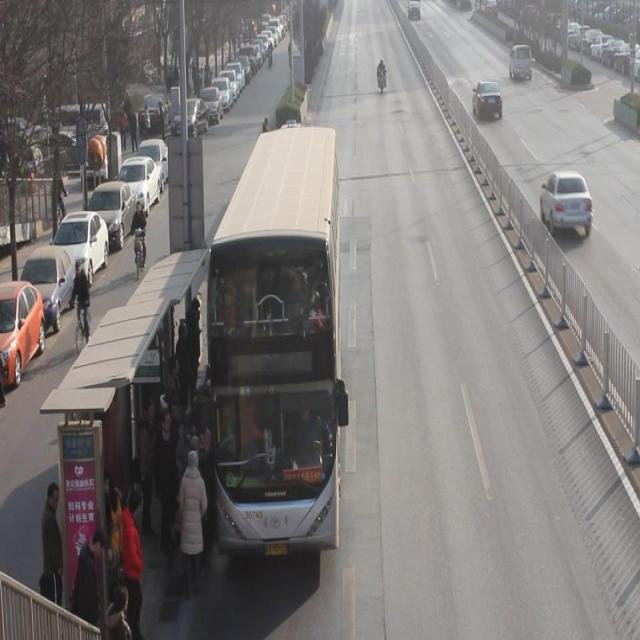car: (539, 171, 593, 240), (472, 81, 503, 124), (406, 1, 421, 24)
truck: (508, 46, 532, 82)
van: (205, 126, 341, 551)
